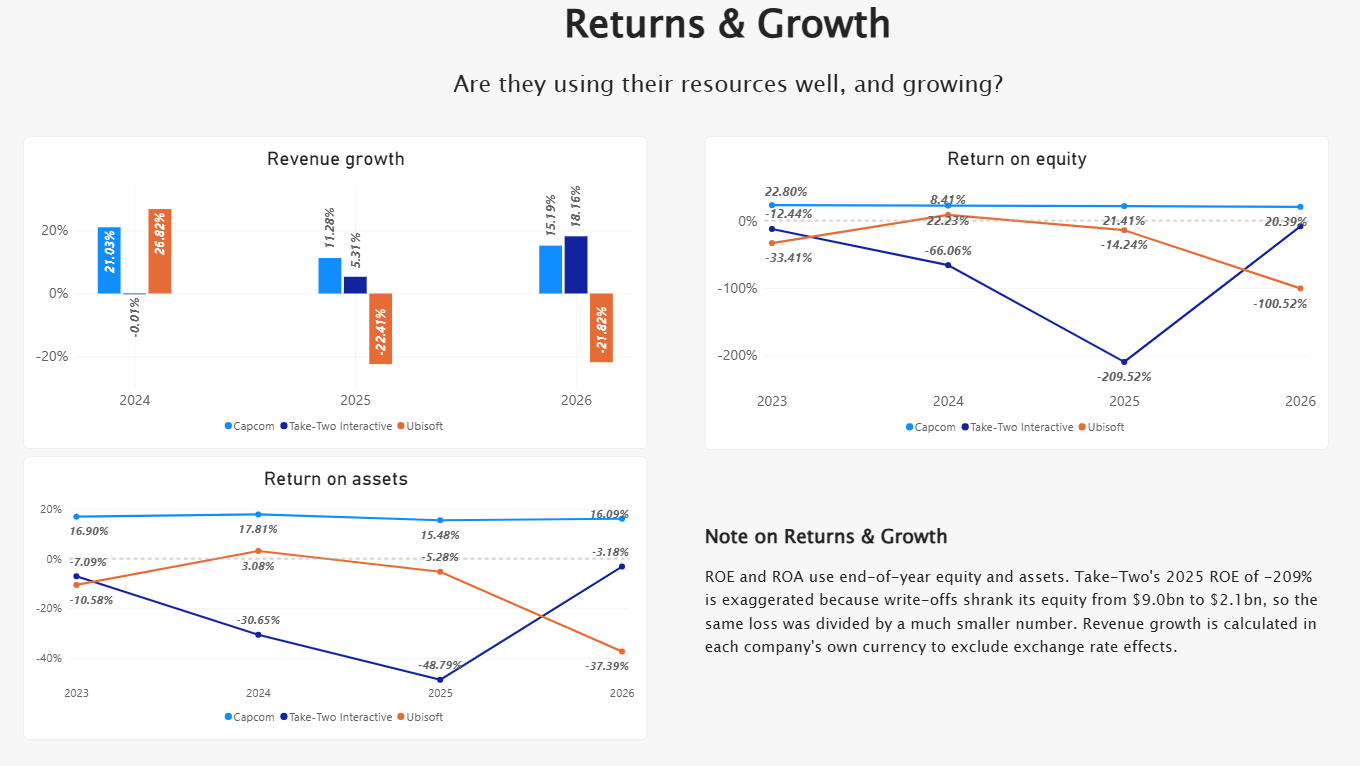

This screenshot's page, from the dashboard's own definition file:
{"tool":"powerbi","page":{"name":"Returns & growth","canvas":[1920,1080],"ordinal":4},"visuals":[{"type":"textbox","box":[509.3,0,1037.8,165.7],"z":0},{"type":"clusteredColumnChart","title":"Revenue growth","fields":{"Category":["Years.Year"],"Series":["public companies.company_name"],"Y":["Avg(public returns_growth.revenue_growth)"]},"box":[45.3,197.1,870.4,436],"z":1000},{"type":"lineChart","title":"Return on equity","fields":{"Category":["Years.Year"],"Series":["public companies.company_name"],"Y":["Avg(public returns_growth.roe)"]},"box":[995.9,197.1,870.4,437.8],"z":2000},{"type":"lineChart","title":"Return on assets","fields":{"Category":["Years.Year"],"Series":["public companies.company_name"],"Y":["Avg(public returns_growth.roa)"]},"box":[45.3,643.6,870.4,395.9],"z":3000},{"type":"textbox","box":[995.9,643.6,870.4,395.9],"z":4000}]}

Visuals, with their boxes in screenshot pixels (x1, y1, x2, y2), scaled from the page's 1920x1080 canvas onto the 1360x766 screenshot:
textbox: 361, 0, 1096, 118
"Revenue growth" clusteredColumnChart: 32, 140, 649, 449
"Return on equity" lineChart: 705, 140, 1322, 450
"Return on assets" lineChart: 32, 456, 649, 737
textbox: 705, 456, 1322, 737
